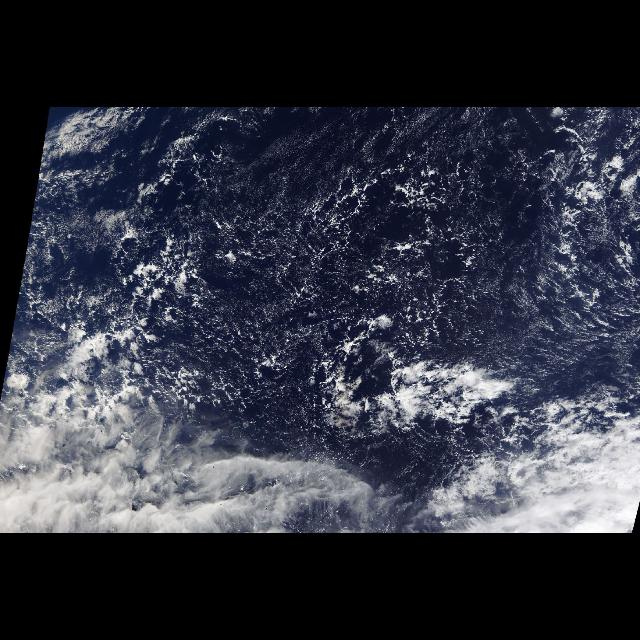Gravel: (84, 142, 512, 398)
Sugar: (467, 248, 639, 390)
